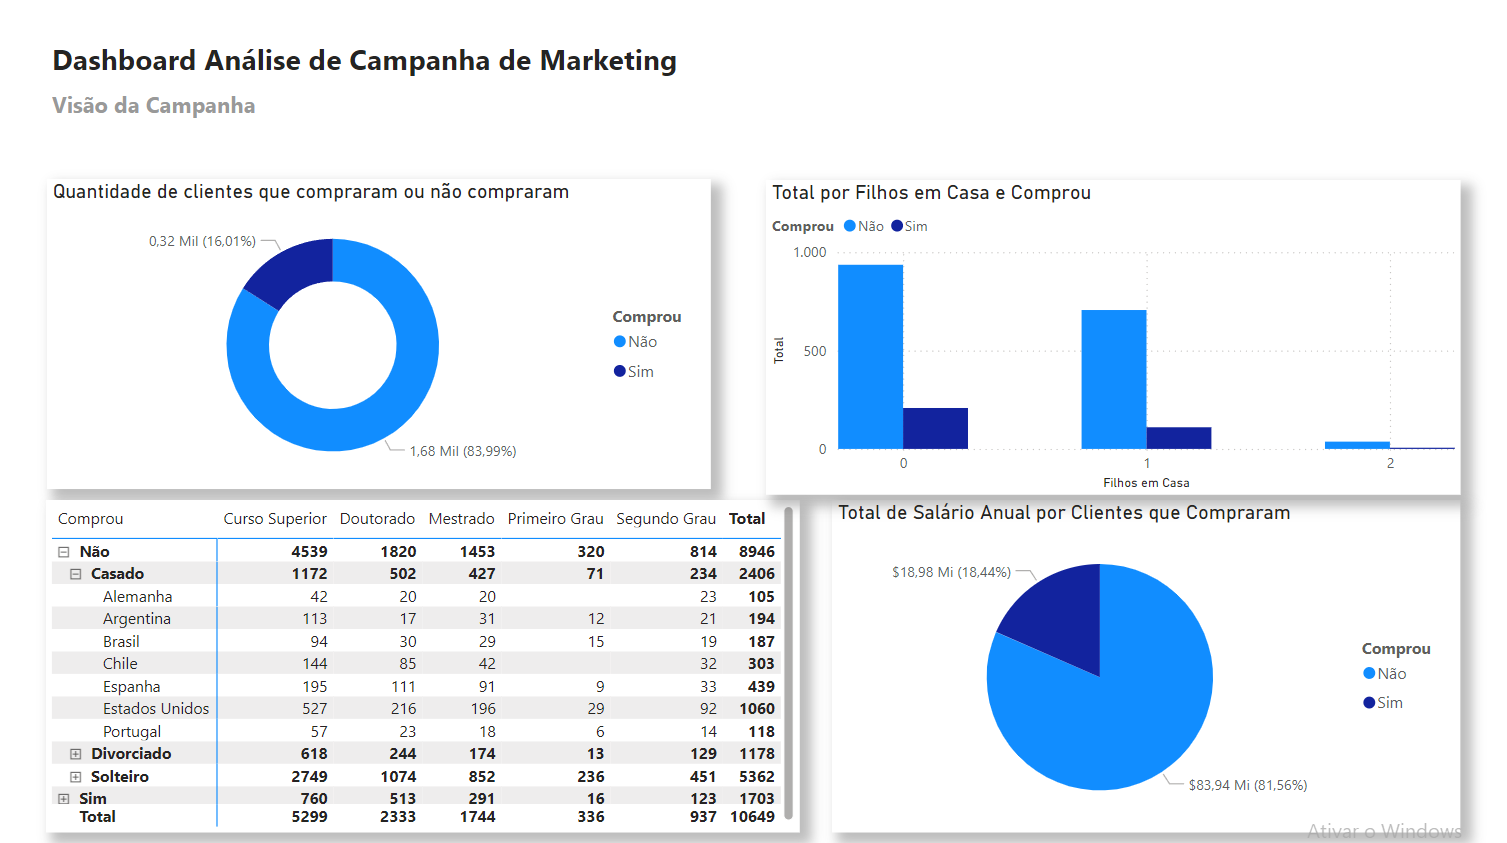

What the dashboard file says about the page in this screenshot:
{"tool":"powerbi","page":{"name":"Visão de Campanha","canvas":[1280,720],"ordinal":2},"visuals":[{"type":"donutChart","title":"Quantidade de clientes que compraram ou não compraram","fields":{"Y":["CountNonNull(dados_marketing.ID)"],"Category":["dados_marketing.Comprou"]},"box":[42.5,155.5,560.9,261.8],"z":0},{"type":"pieChart","title":"Total de Salário Anual por Clientes que Compraram","fields":{"Y":["Sum(dados_marketing.Salario Anual)"],"Category":["dados_marketing.Comprou"]},"box":[705.6,426.8,530.7,280.6],"z":1000},{"type":"pivotTable","fields":{"Rows":["dados_marketing.Comprou","dados_marketing.Estado Civil","dados_marketing.Pais"],"Values":["Sum(dados_marketing.Numero Visitas WebSite Mes)"],"Columns":["dados_marketing.Escolaridade"]},"box":[41.4,426.8,637.2,280.6],"z":2000},{"type":"clusteredColumnChart","fields":{"Category":["dados_marketing.Filhos em Casa"],"Y":["CountNonNull(dados_marketing.Filhos em Casa)"],"Series":["dados_marketing.Comprou"]},"box":[649.5,156,587.1,266.2],"z":3000},{"type":"group","id":"g1","title":"Grupo 1","box":[41,32.3,548.3,82],"z":4000},{"type":"textbox","box":[41.2,32.3,548.1,42.3],"z":11000,"group":"g1"},{"type":"textbox","box":[41,74.4,203.4,39.9],"z":12001,"group":"g1"}]}

Visuals, with their boxes in screenshot pixels (x1, y1, x2, y2), scaled from the page's 1280x720 canvas onto the 1507x843 screenshot:
"Quantidade de clientes que compraram ou não compraram" donutChart: 50 182 710 489
"Total de Salário Anual por Clientes que Compraram" pieChart: 831 500 1456 828
pivotTable - dados_marketing.Comprou x dados_marketing.Estado Civil: 49 500 799 828
clusteredColumnChart - dados_marketing.Filhos em Casa x CountNonNull(dados_marketing.Filhos em Casa): 765 183 1456 494
"Grupo 1" group: 48 38 694 134
textbox: 49 38 694 87
textbox: 48 87 288 134
